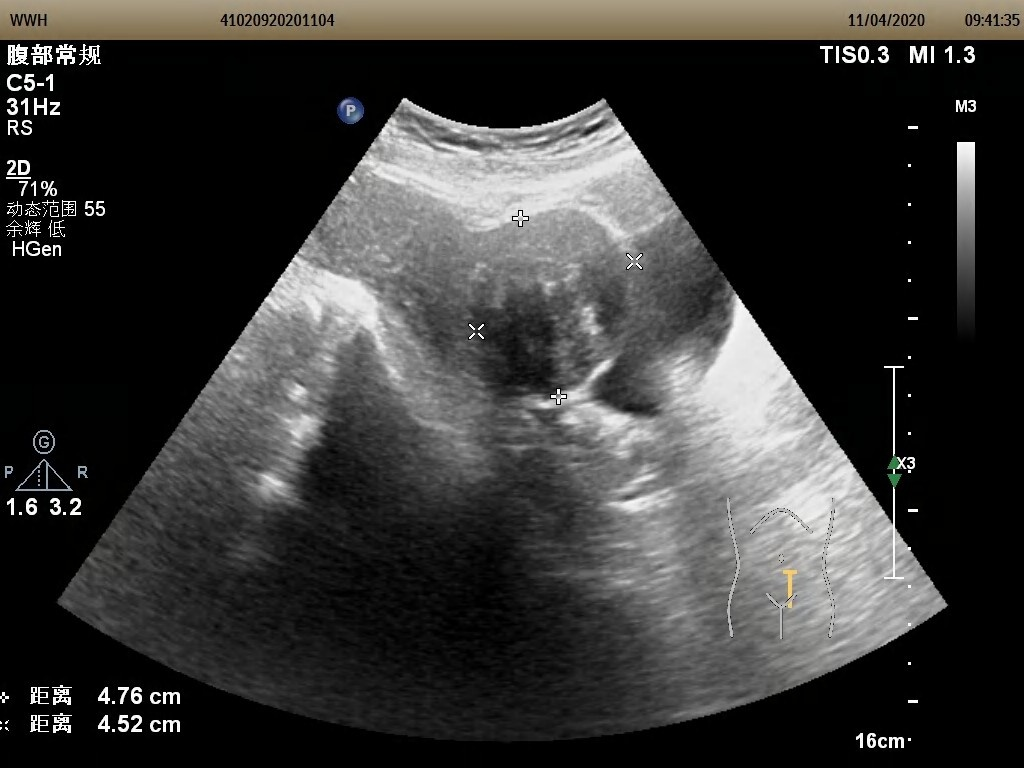肌瘤: (476, 221, 616, 393)
